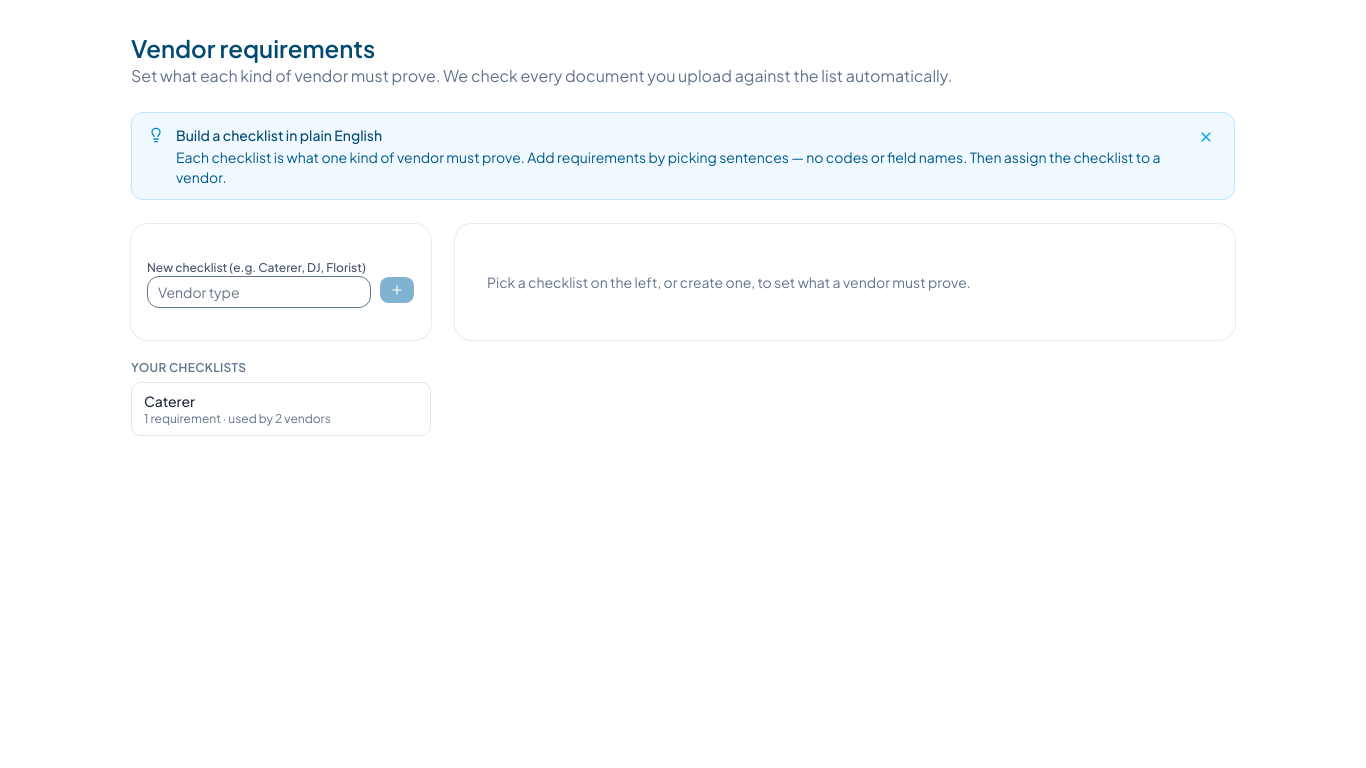
Test: RulesPage — FP-081 / FP-082 / FP-083 (Batch E #319) › groups the live summary by document type (FP-083)
Click the button "Caterer 1 requirement · used by 2 vendors" at (281, 409), box [131, 382, 431, 436]
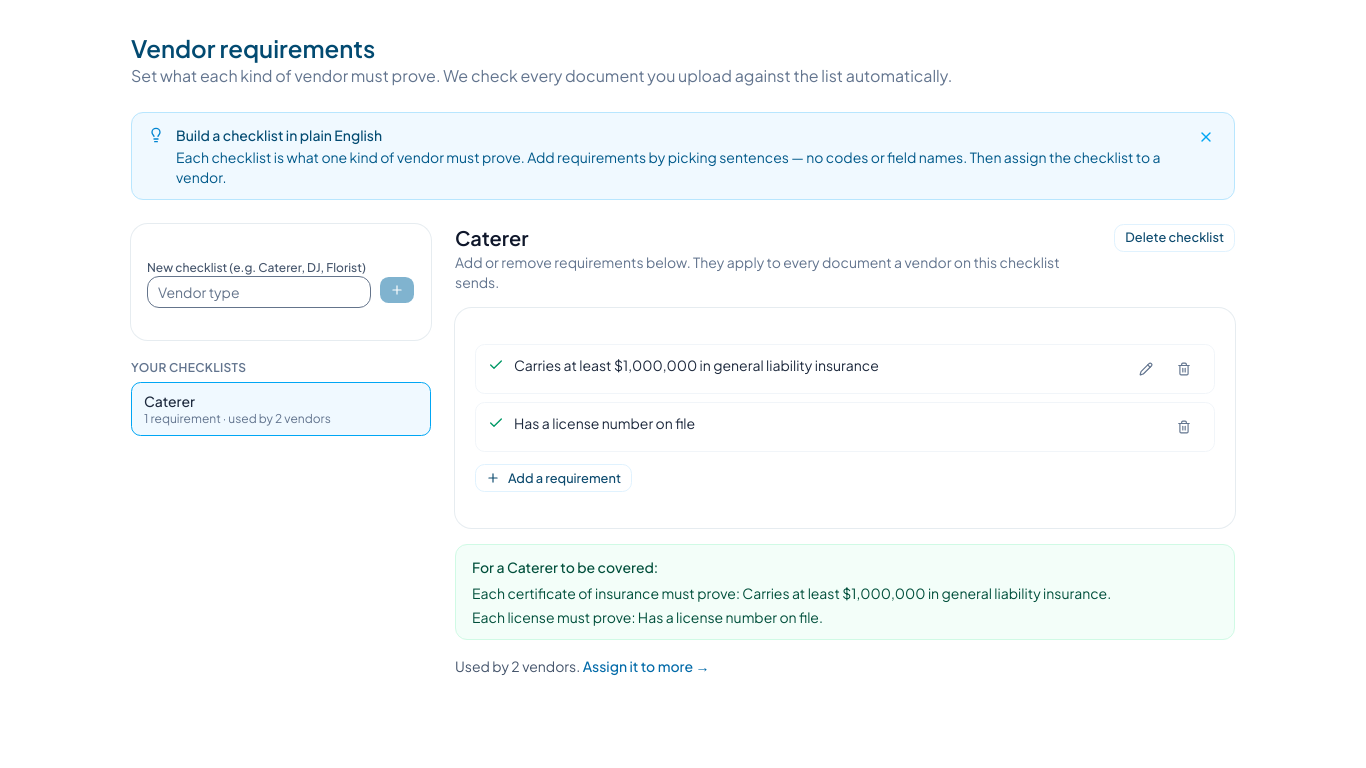
Expected: the list item "Each certificate of insurance must prove" is shown, [472, 583, 1218, 603]
Expected: the list item "Each license must prove: Has a license number on file." is shown, [472, 608, 823, 626]
